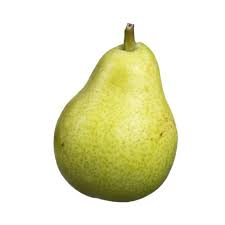pear: (52, 31, 180, 211)
